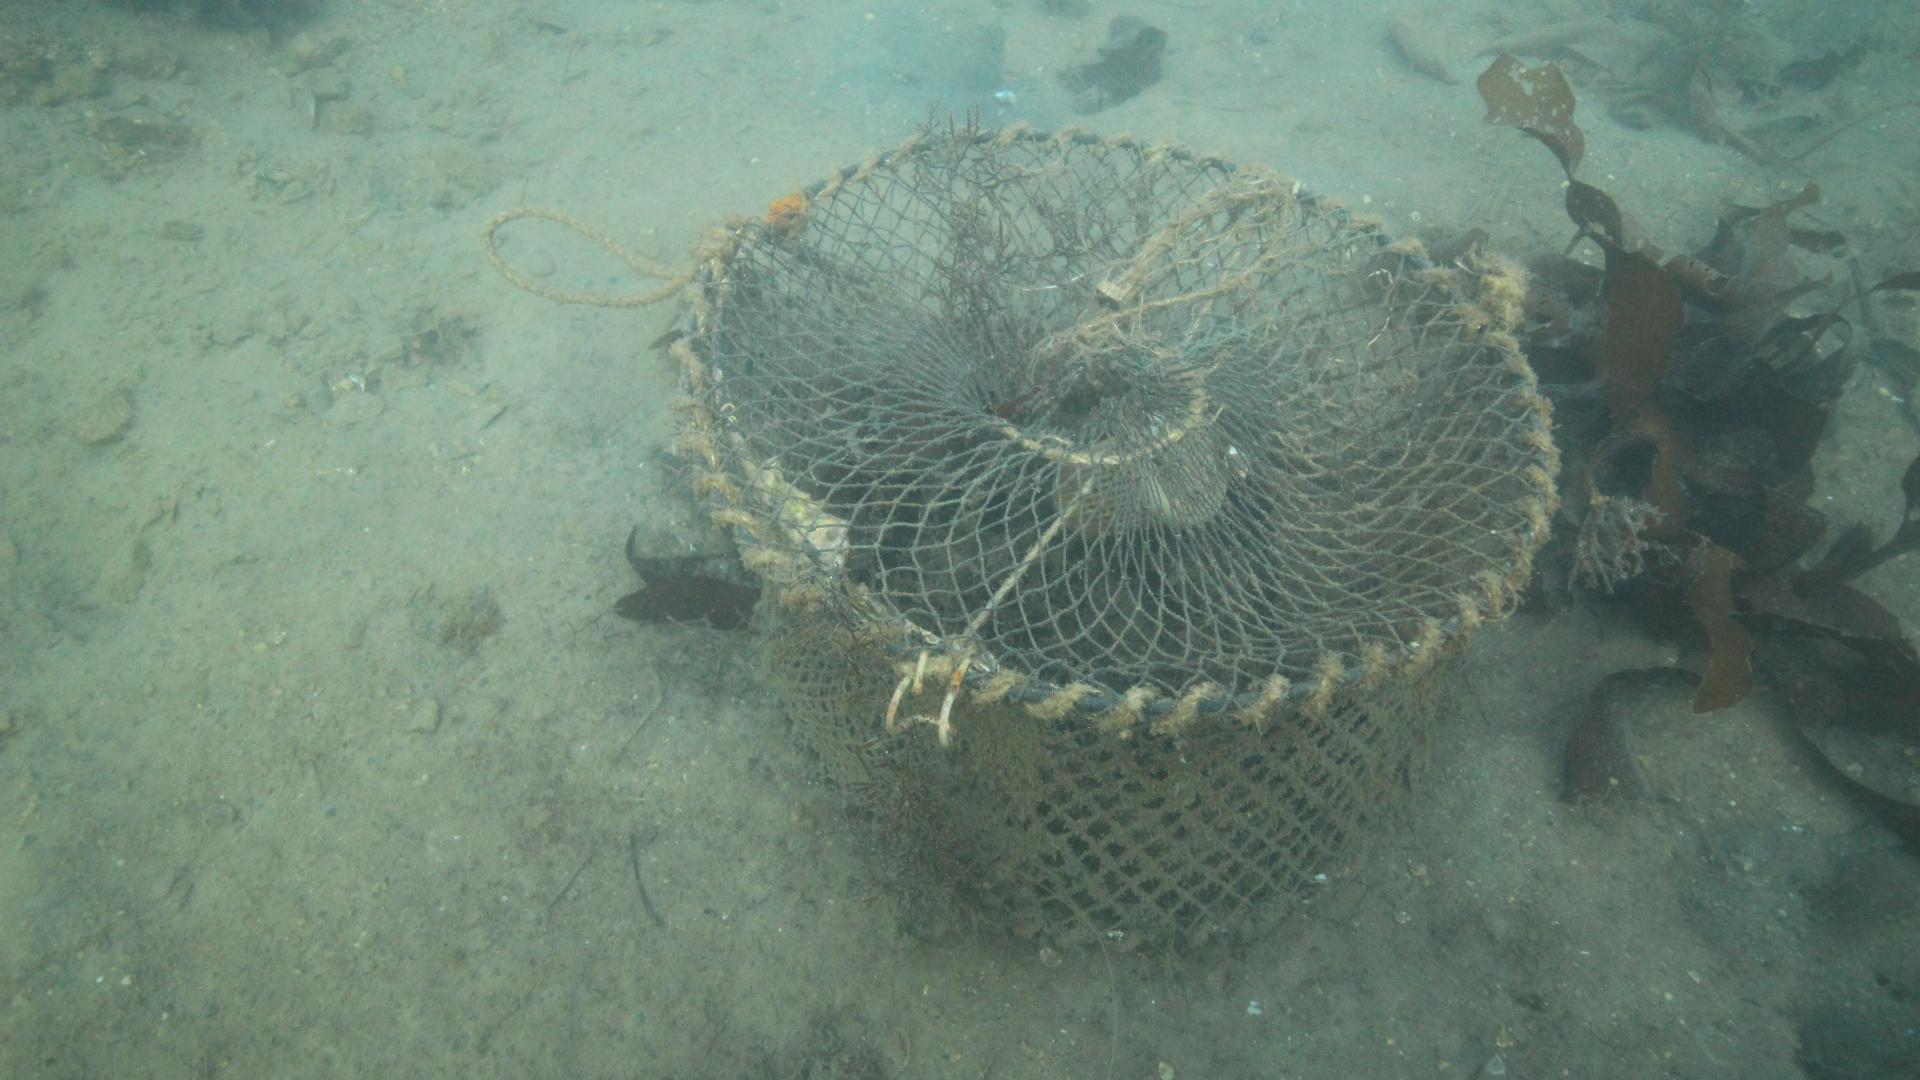circular fish trap: (673, 123, 1561, 980)
rope: (479, 203, 695, 306)
